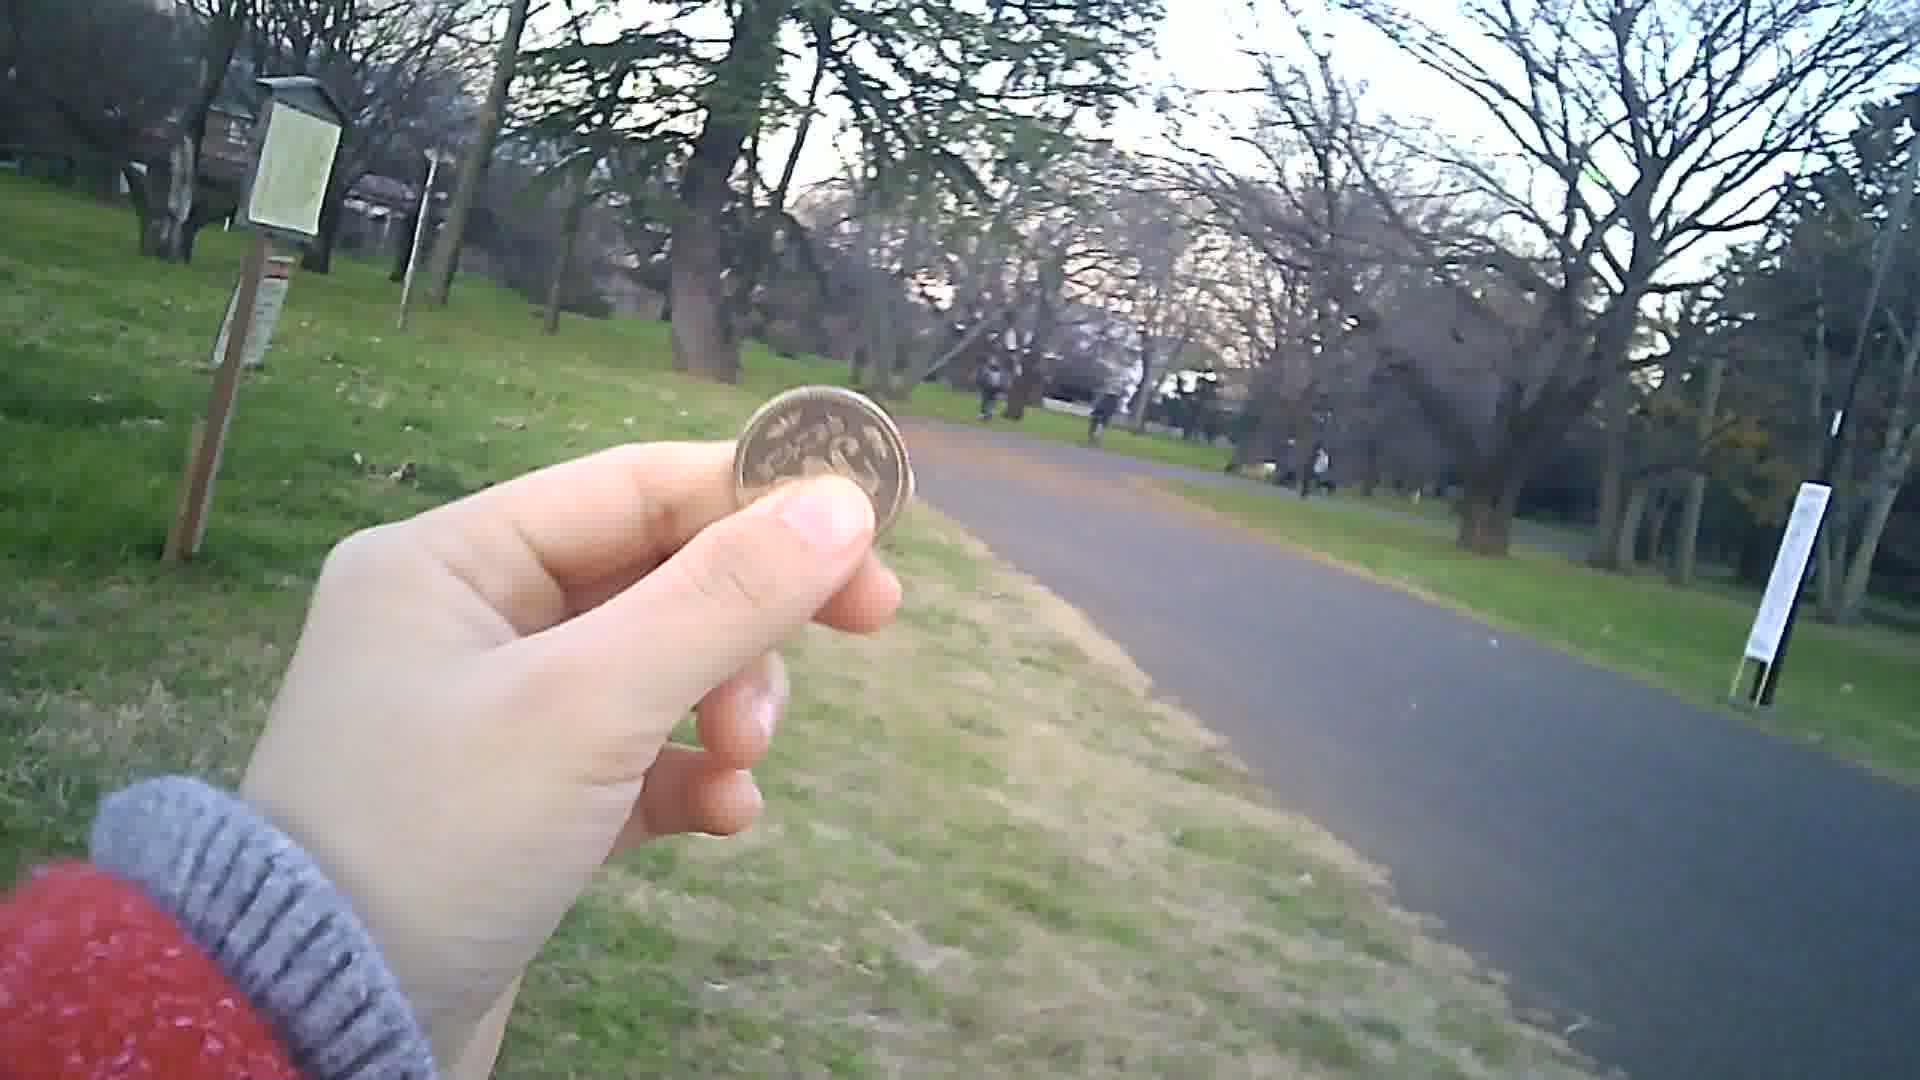500 Yen: (724, 382, 919, 571)
